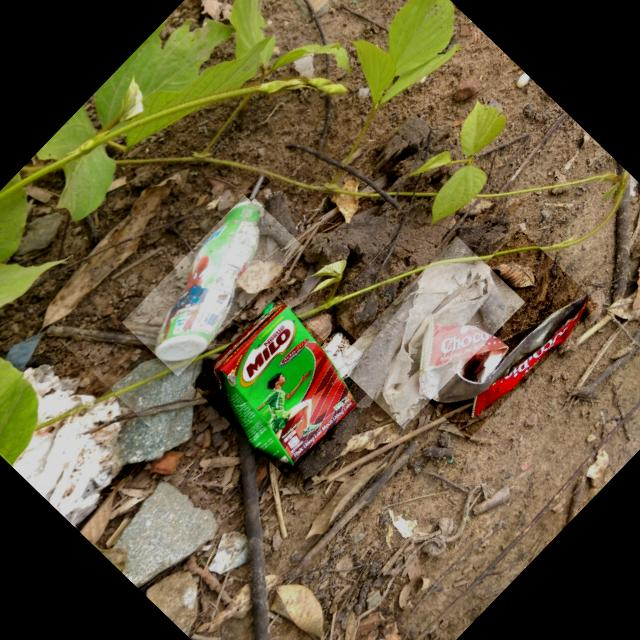Food Carton: (210, 303, 355, 466)
Other plastic: (419, 295, 588, 421)
Other plastic wrapper: (155, 203, 261, 363)
Straw: (248, 176, 264, 199)
Unlabeled litter: (13, 365, 131, 526), (382, 264, 495, 426), (322, 332, 365, 382)
